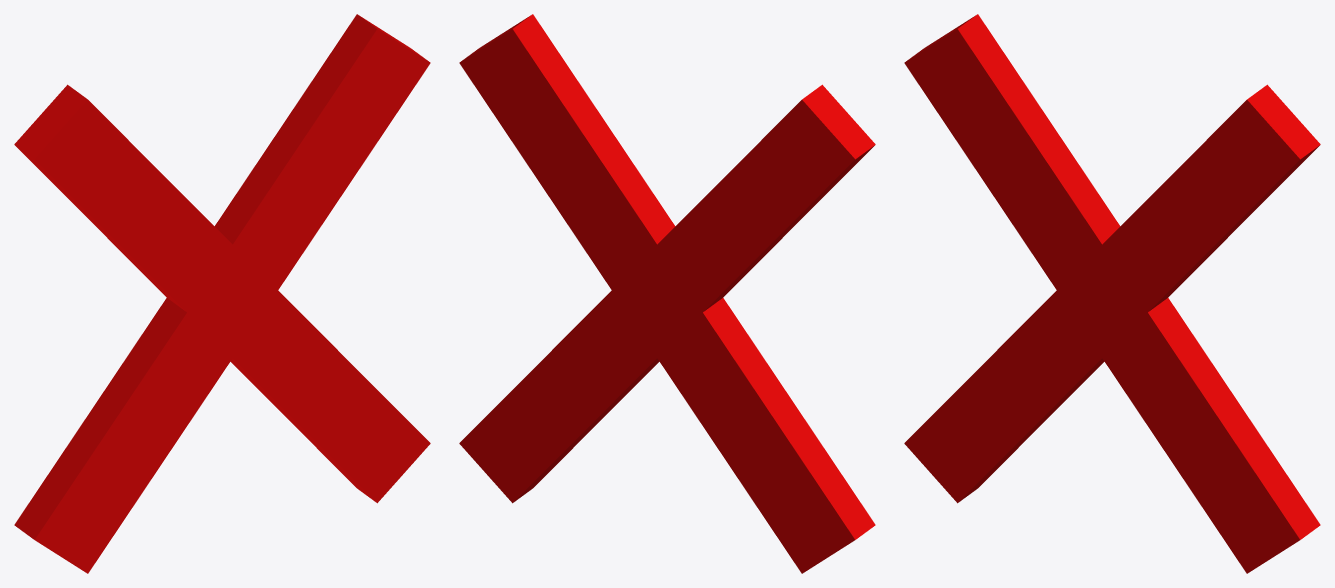
3 views of the same model, side by side, from view 1: azimuth 30°, elevation 25°; view 2: azimuth 150°, elevation 25°; view 3: azimuth 330°, elevation 25° (orthographic).
Visible parts, largest first — view 1: No; view 2: No; view 3: No.
Part boxes in pixels (<box>): No: <box>14,14,430,573</box>; No: <box>459,14,875,573</box>; No: <box>904,14,1320,573</box>.
Bounding box in the file's own units: 9.67 × 11.07 × 0.863.
